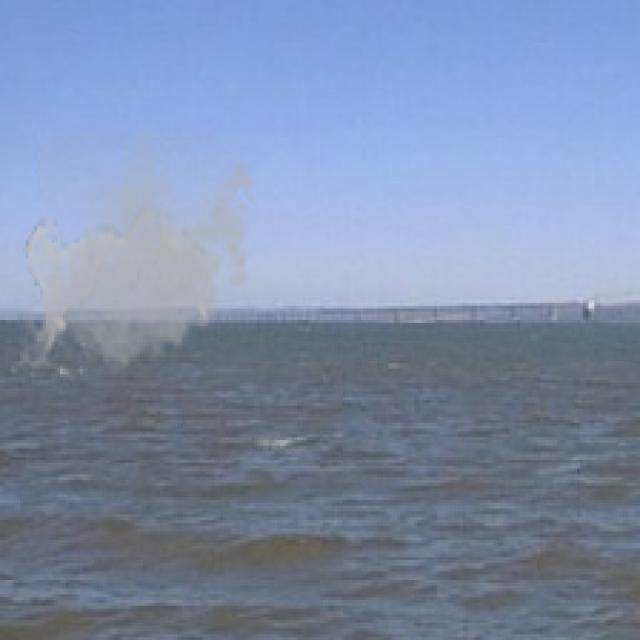Smoke: (20, 132, 263, 378)
